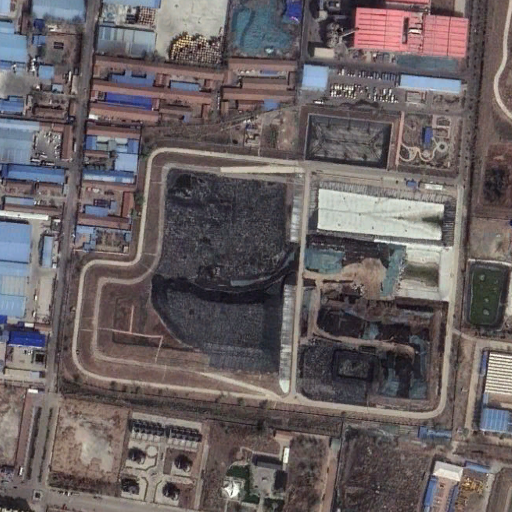lf: (73, 147, 463, 419)
